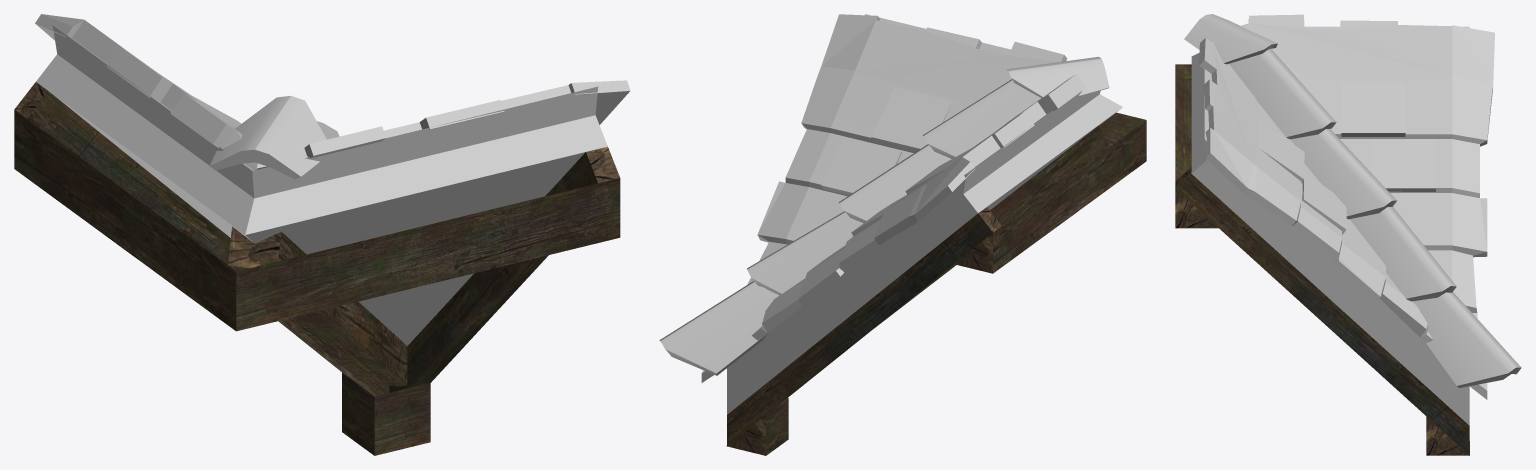
The picture shows the model from 3 angles, left to right: view 1: azimuth 30°, elevation 25°; view 2: azimuth 150°, elevation 25°; view 3: azimuth 270°, elevation 25°; orthographic projection. The views are drawn at different scales.
Visible parts, largest first — view 1: SM_T3_Roof_Med_Valley_LOD0; view 2: SM_T3_Roof_Med_Valley_LOD0; view 3: SM_T3_Roof_Med_Valley_LOD0.
Boxes of the visible parts, bbox=[...] form: SM_T3_Roof_Med_Valley_LOD0: bbox=[14, 14, 630, 455]; SM_T3_Roof_Med_Valley_LOD0: bbox=[659, 14, 1146, 455]; SM_T3_Roof_Med_Valley_LOD0: bbox=[1175, 14, 1521, 455].
Size of the model in its own units: 1.98 by 2.09 by 1.98.
